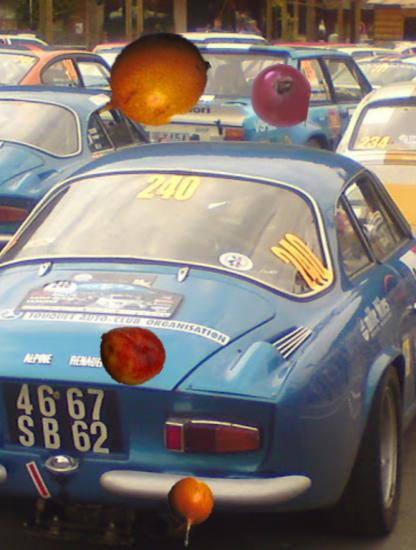Granadilla: (86, 21, 213, 148), (152, 476, 221, 545)
Peach: (96, 320, 166, 390)
Redcurrant: (249, 64, 313, 128)
